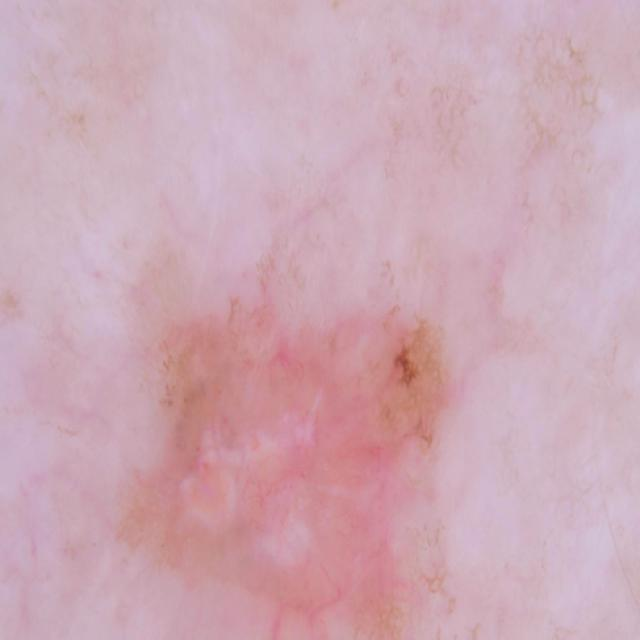Carcinoma: (140, 250, 506, 640)
